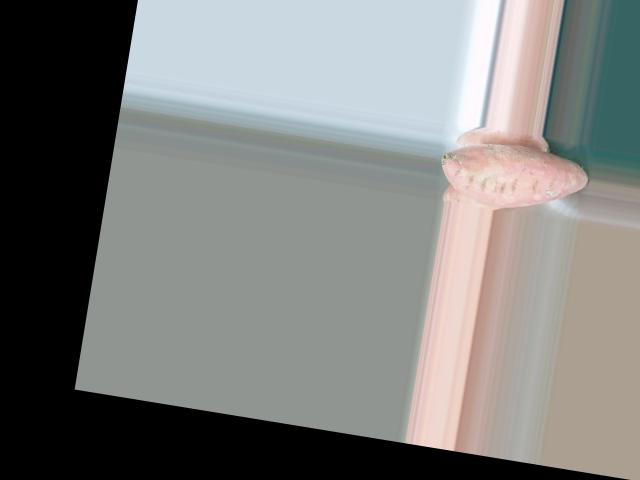sweet_potato: (436, 140, 589, 215)
